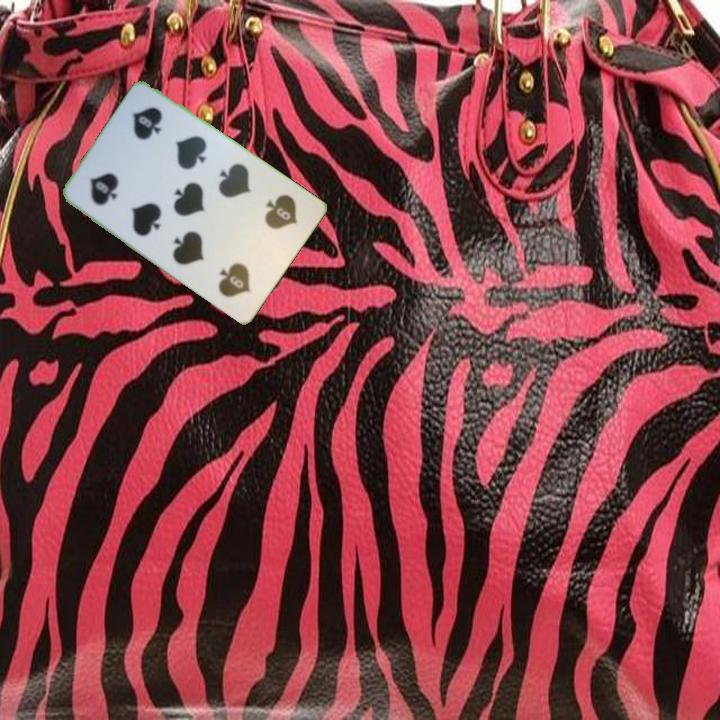s_9.png: (70, 140, 154, 226), (231, 177, 315, 262)
